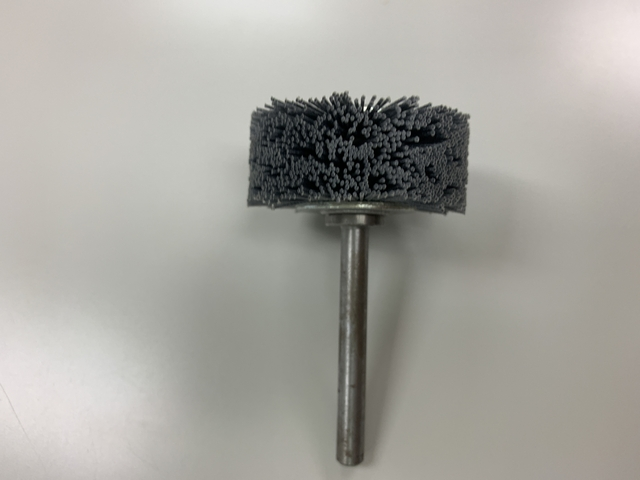Wheel Brush: (240, 90, 471, 467), (239, 86, 479, 287)
